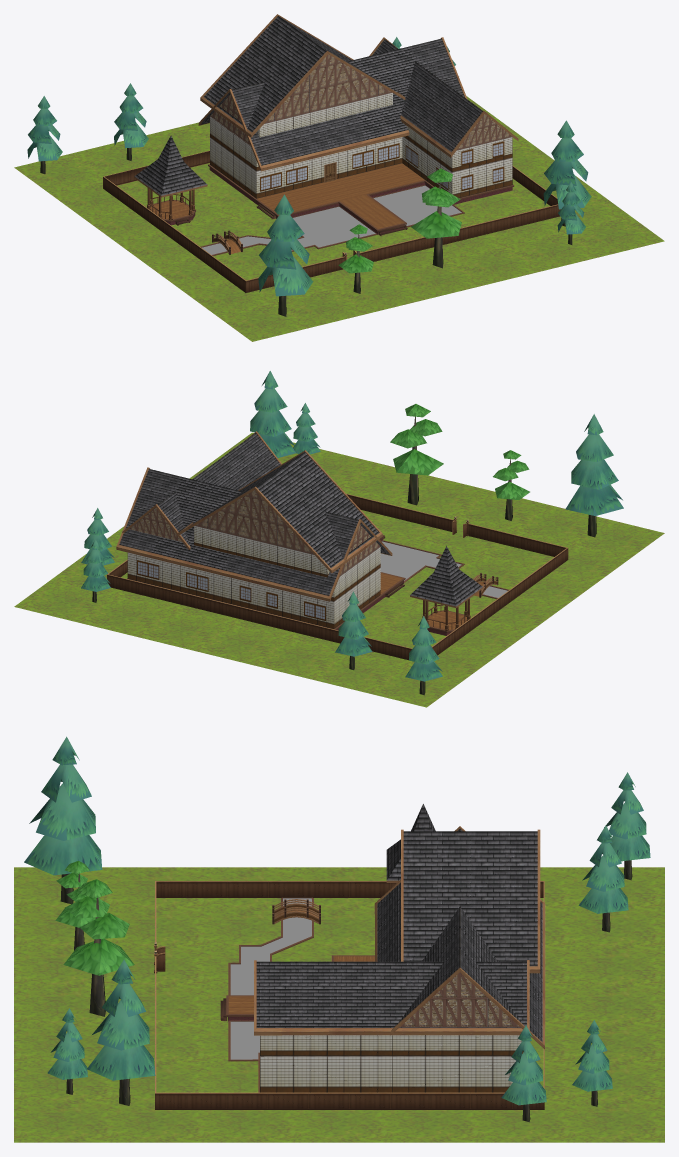
Rendered from zhuzhai_rixi01_lod.FBX.
3 views of the same model, one above another, from view 1: azimuth 30°, elevation 25°; view 2: azimuth 150°, elevation 25°; view 3: azimuth 270°, elevation 25° (orthographic). The views are drawn at different scales.
Visible parts, largest first — view 1: zhuzhai_rixi01_lod, caodi, shu, shui; view 2: zhuzhai_rixi01_lod, caodi, shu, shui; view 3: caodi, zhuzhai_rixi01_lod, shu, shui.
Boxes of the visible parts, <box> form: zhuzhai_rixi01_lod: <box>103,14,560,292</box>; caodi: <box>14,96,664,341</box>; shu: <box>27,37,591,316</box>; shui: <box>202,185,461,254</box>; zhuzhai_rixi01_lod: <box>107,431,568,660</box>; caodi: <box>14,432,664,707</box>; shu: <box>81,371,623,695</box>; shui: <box>380,541,507,597</box>; caodi: <box>14,867,664,1142</box>; zhuzhai_rixi01_lod: <box>154,804,545,1109</box>; shu: <box>24,736,650,1122</box>; shui: <box>230,898,311,1059</box>.
Size of the model in its own units: 6415 by 2022 by 6400.
